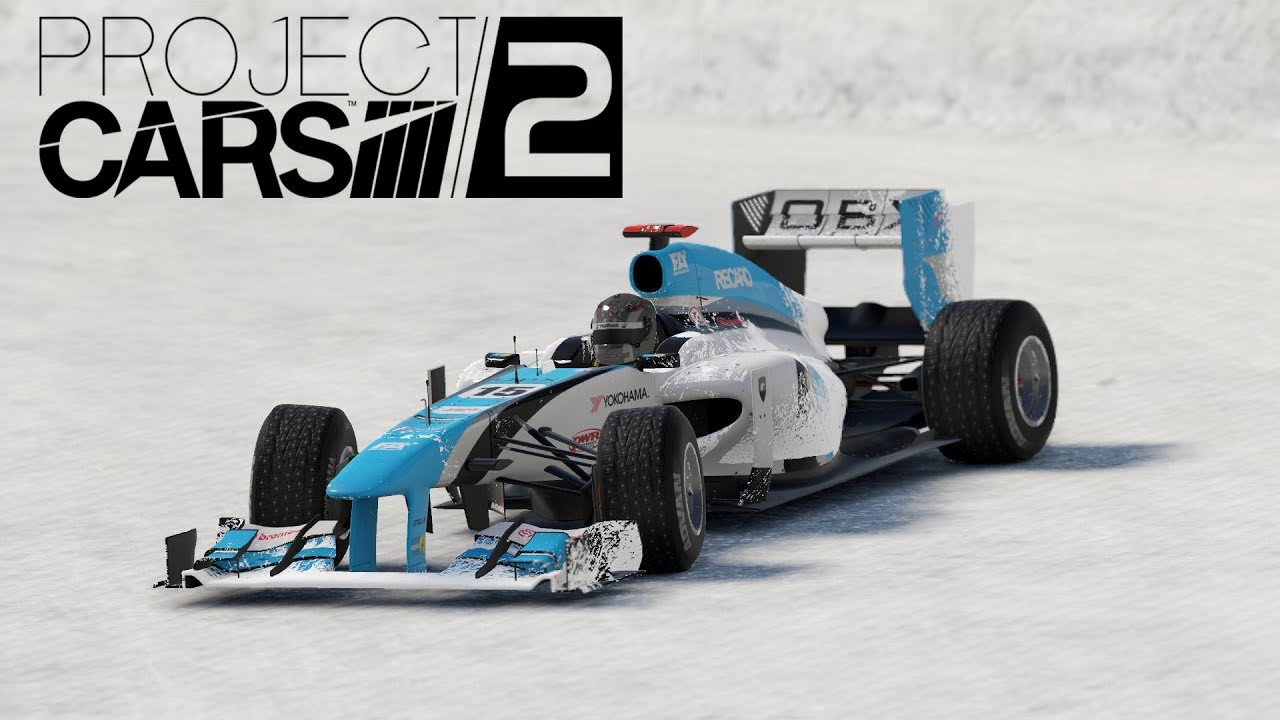f1_car: (133, 173, 1087, 618)
helmet: (582, 290, 667, 375)
